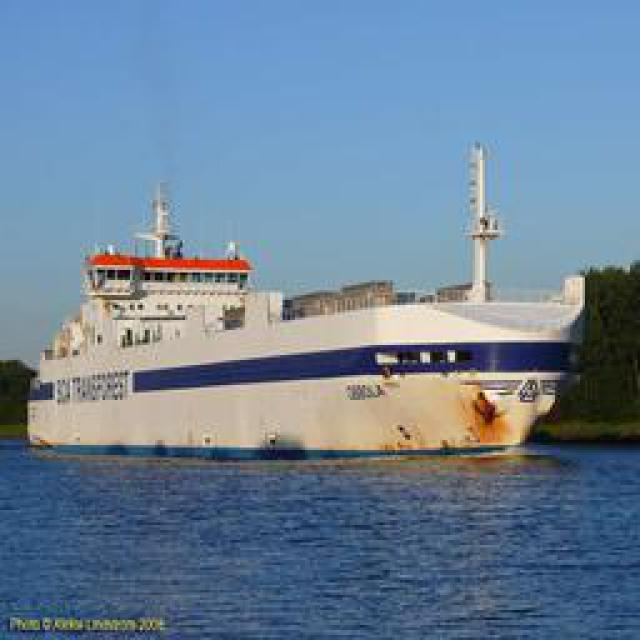Ship: (26, 160, 594, 465)
